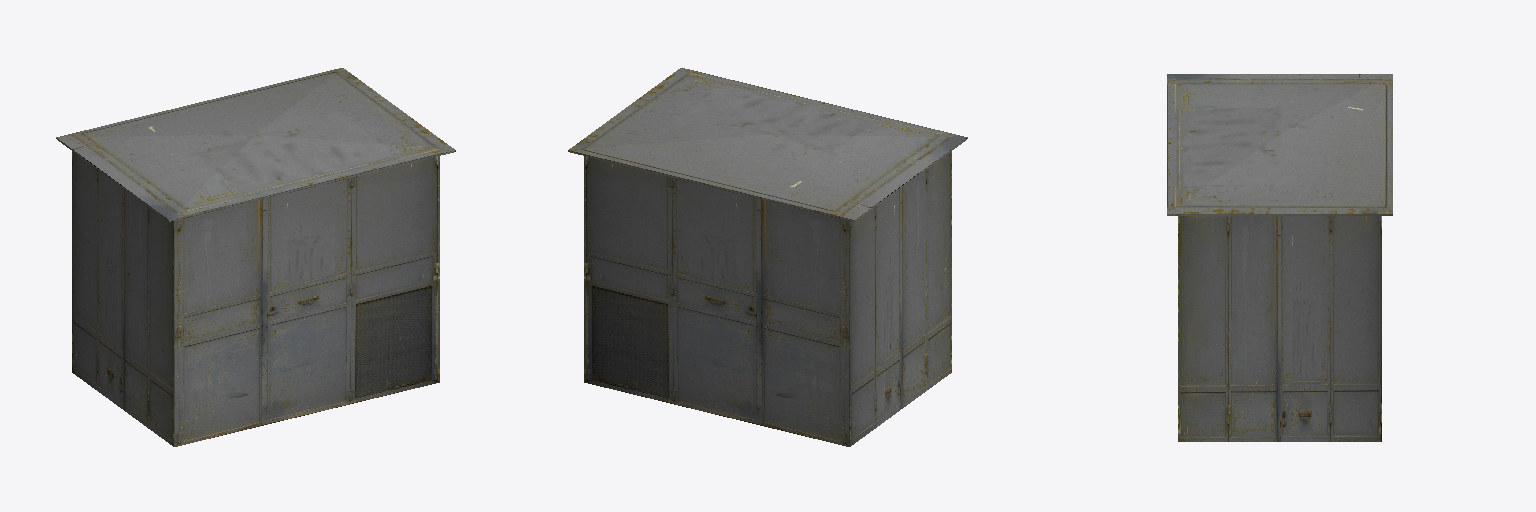
The picture shows the model from 3 angles: view 1: azimuth 30°, elevation 25°; view 2: azimuth 150°, elevation 25°; view 3: azimuth 270°, elevation 25°; orthographic projection.
Visible parts, largest first — view 1: elevatorHouse_1; view 2: elevatorHouse_1; view 3: elevatorHouse_1.
Part boxes in pixels (left/top/right/bottom): elevatorHouse_1: left=56, top=68, right=455, bottom=446; elevatorHouse_1: left=568, top=68, right=967, bottom=446; elevatorHouse_1: left=1167, top=74, right=1392, bottom=441.
Bounding box in the file's own units: 3.23 × 2.62 × 2.21.
1 materials, 1 textured.